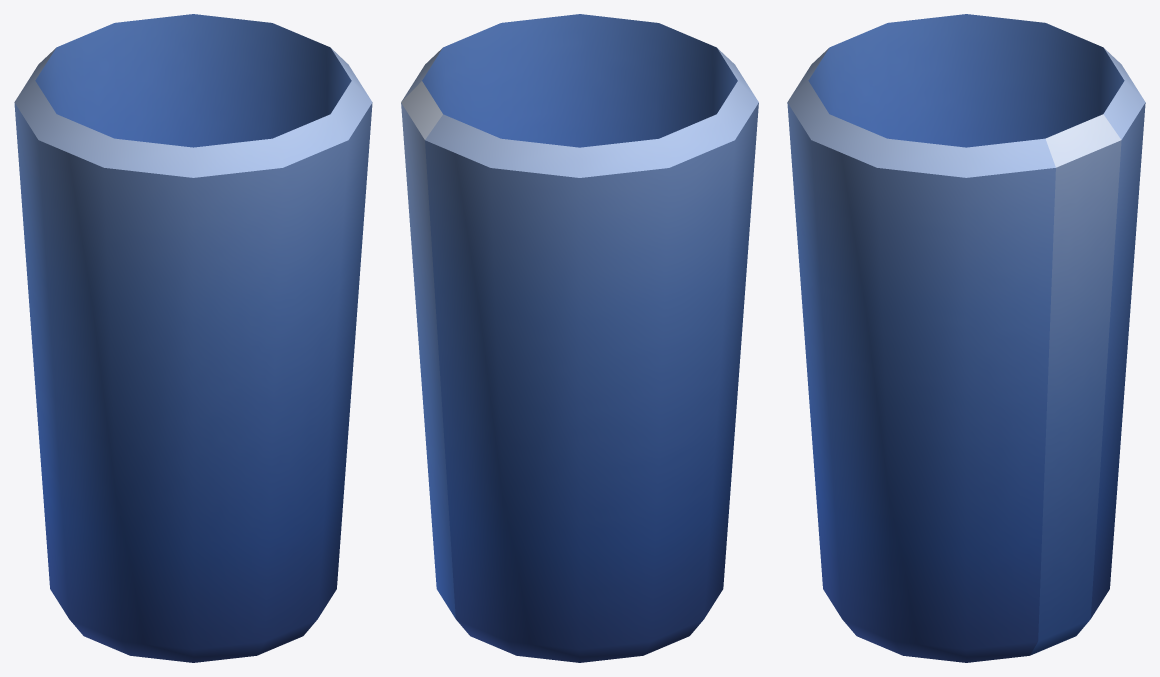
The model's file is m_LatteMacchiato_Glass01.fbx.
3 views of the same model, side by side, from view 1: azimuth 30°, elevation 25°; view 2: azimuth 150°, elevation 25°; view 3: azimuth 270°, elevation 25° (orthographic).
Visible parts, largest first — view 1: m_LatteMacchiato_Glass01; view 2: m_LatteMacchiato_Glass01; view 3: m_LatteMacchiato_Glass01.
Boxes of the visible parts, x1,y1,x2,y2 form: m_LatteMacchiato_Glass01: [14, 14, 372, 662]; m_LatteMacchiato_Glass01: [401, 14, 758, 662]; m_LatteMacchiato_Glass01: [787, 14, 1145, 662].
Bounding box in the file's own units: 7.98 × 13 × 7.98.
